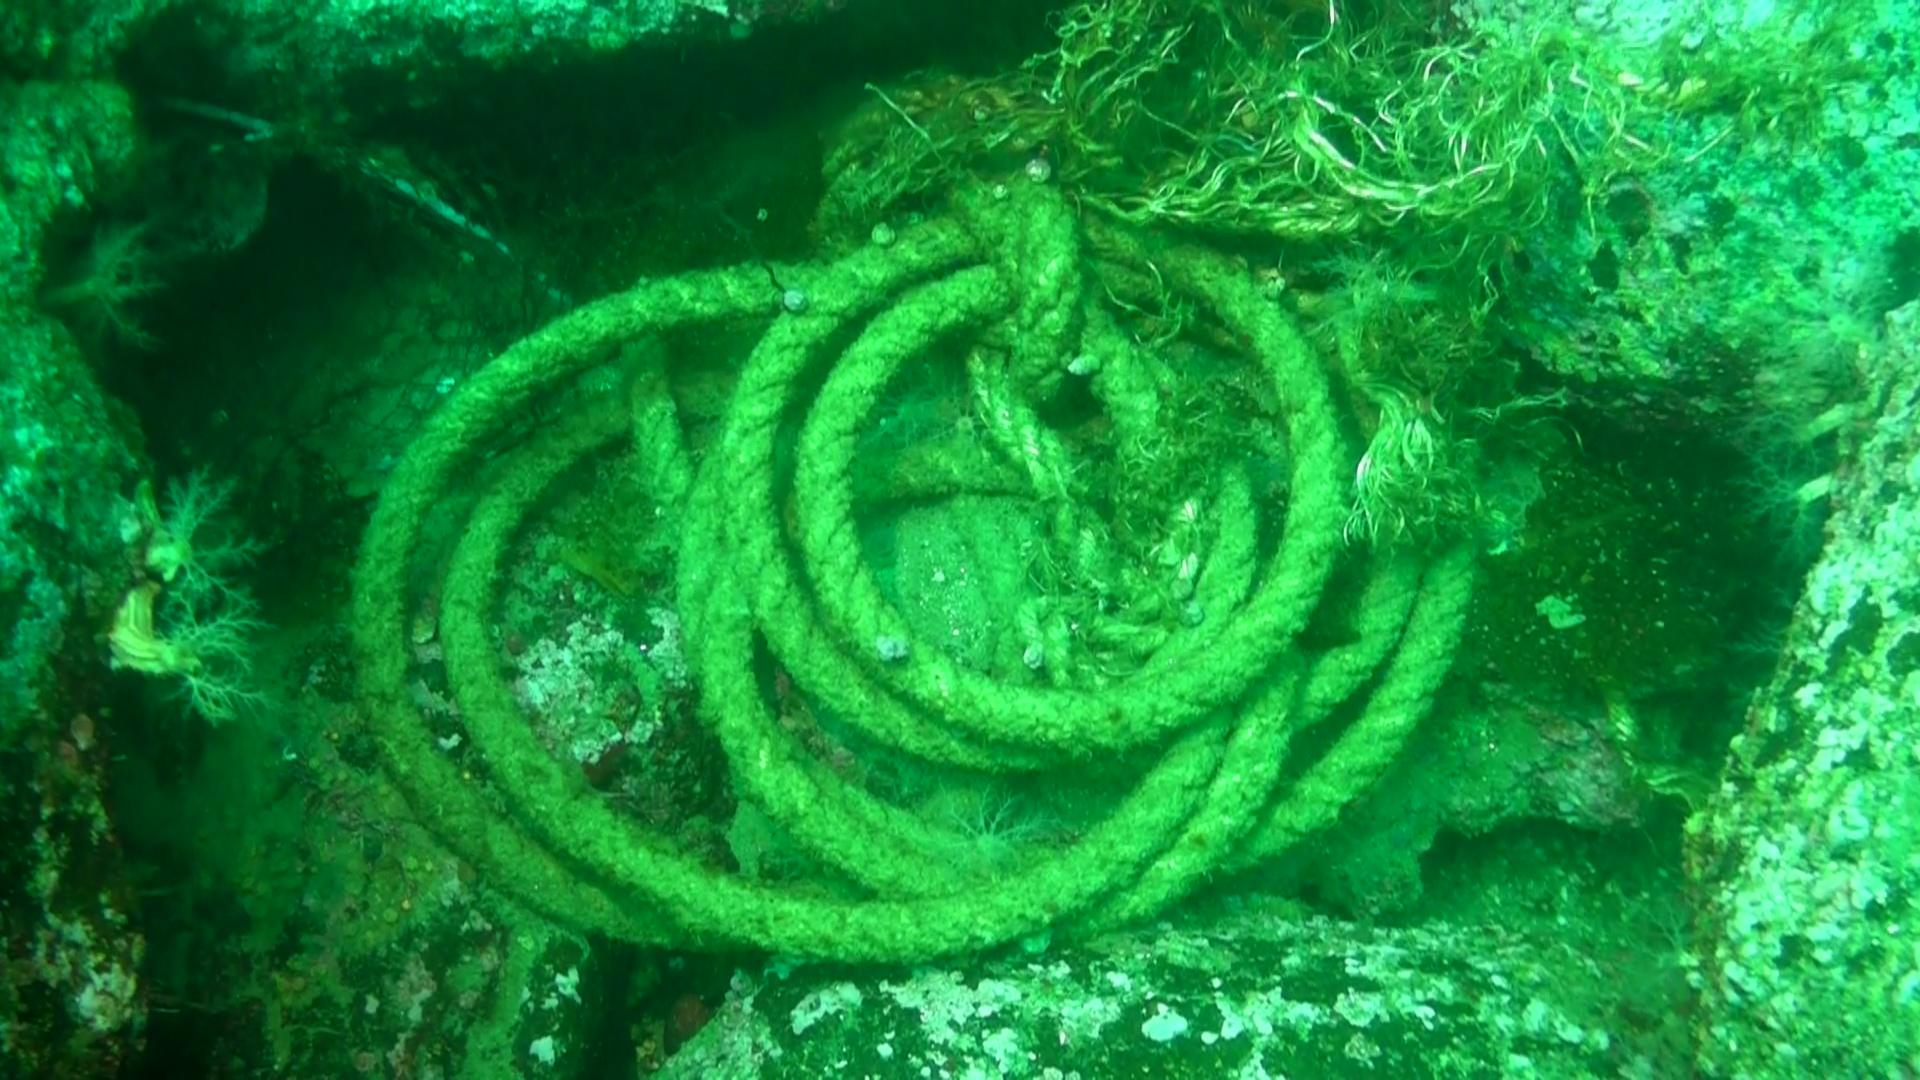bundle of ropes: (348, 164, 1481, 965)
